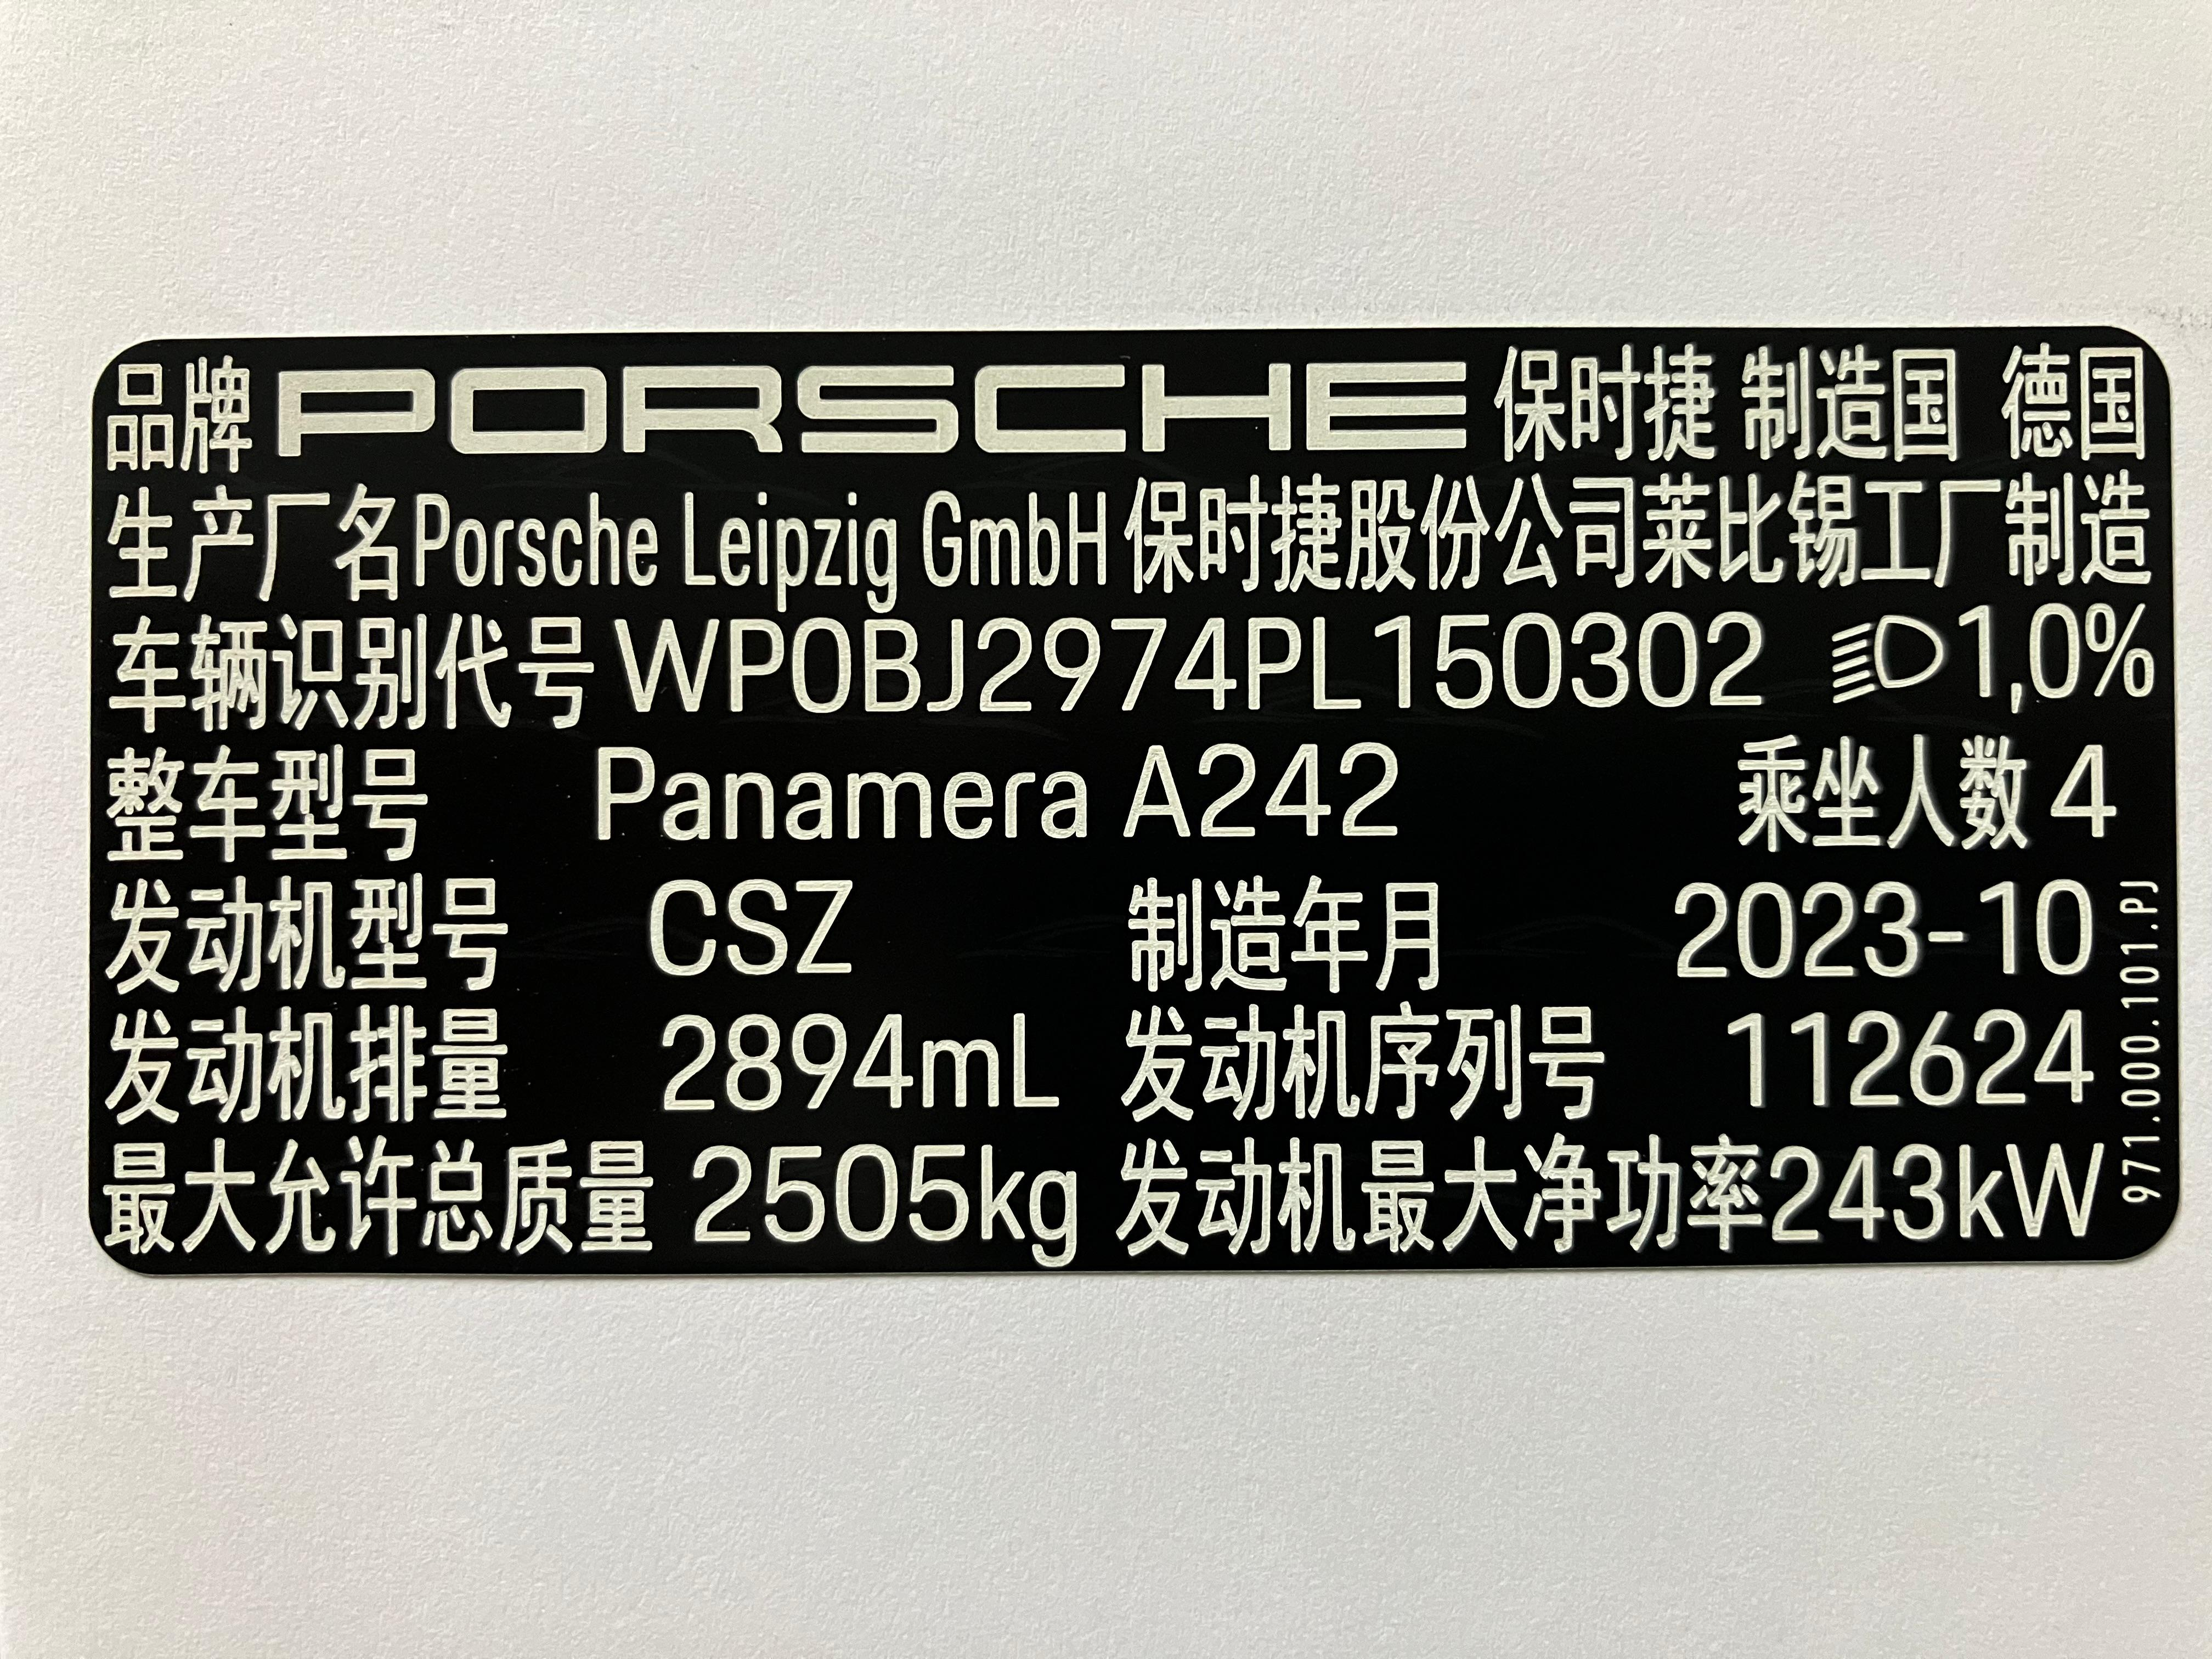Typlabel-China: (89, 326, 2179, 1276)
